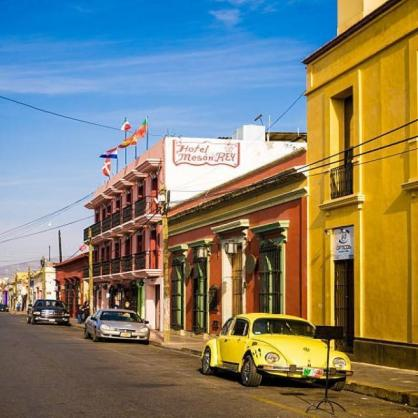car: (199, 314, 353, 392), (85, 310, 151, 343), (31, 300, 70, 325)
